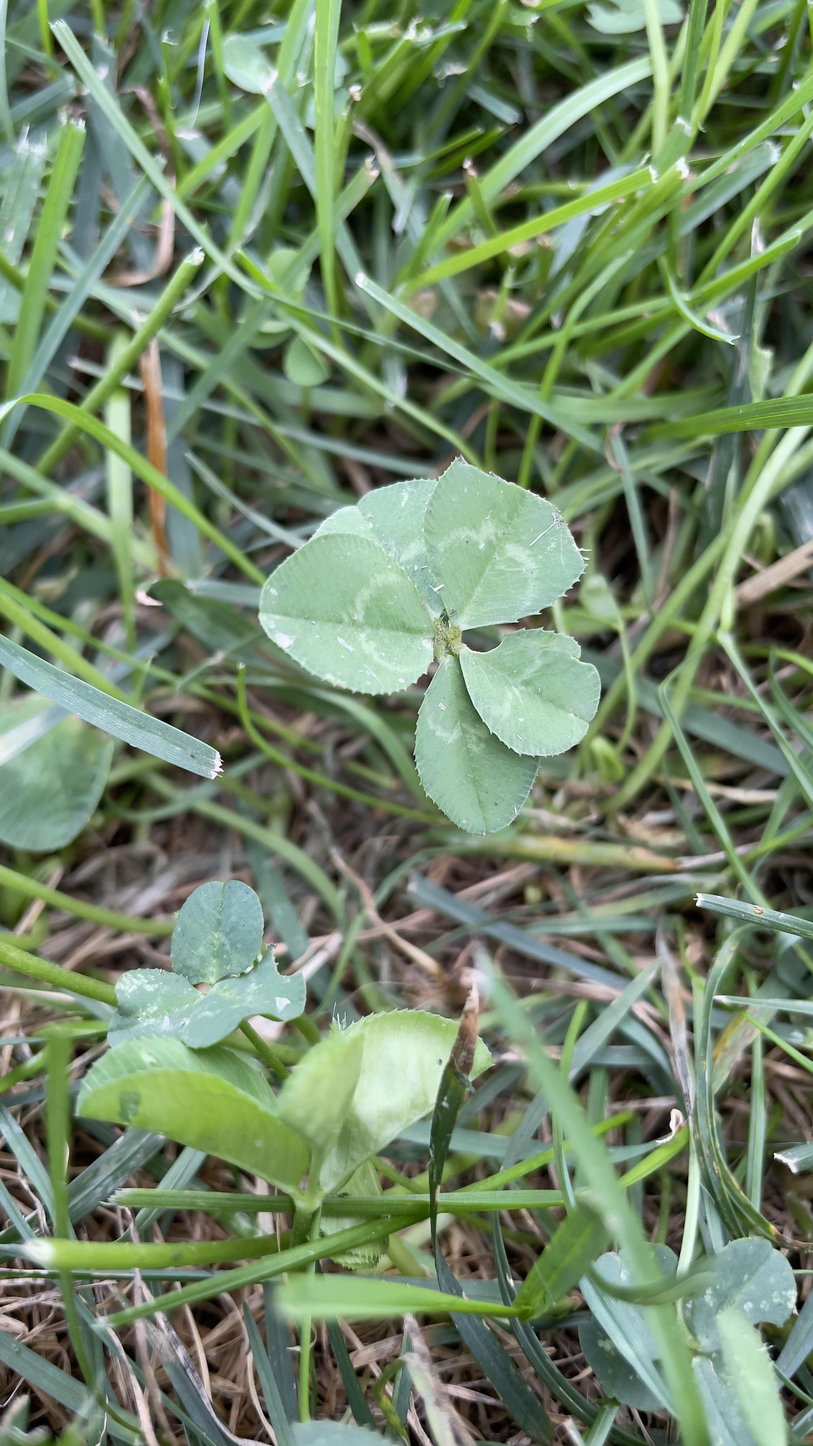5-Leaf-Clovers: (261, 376, 469, 974)
